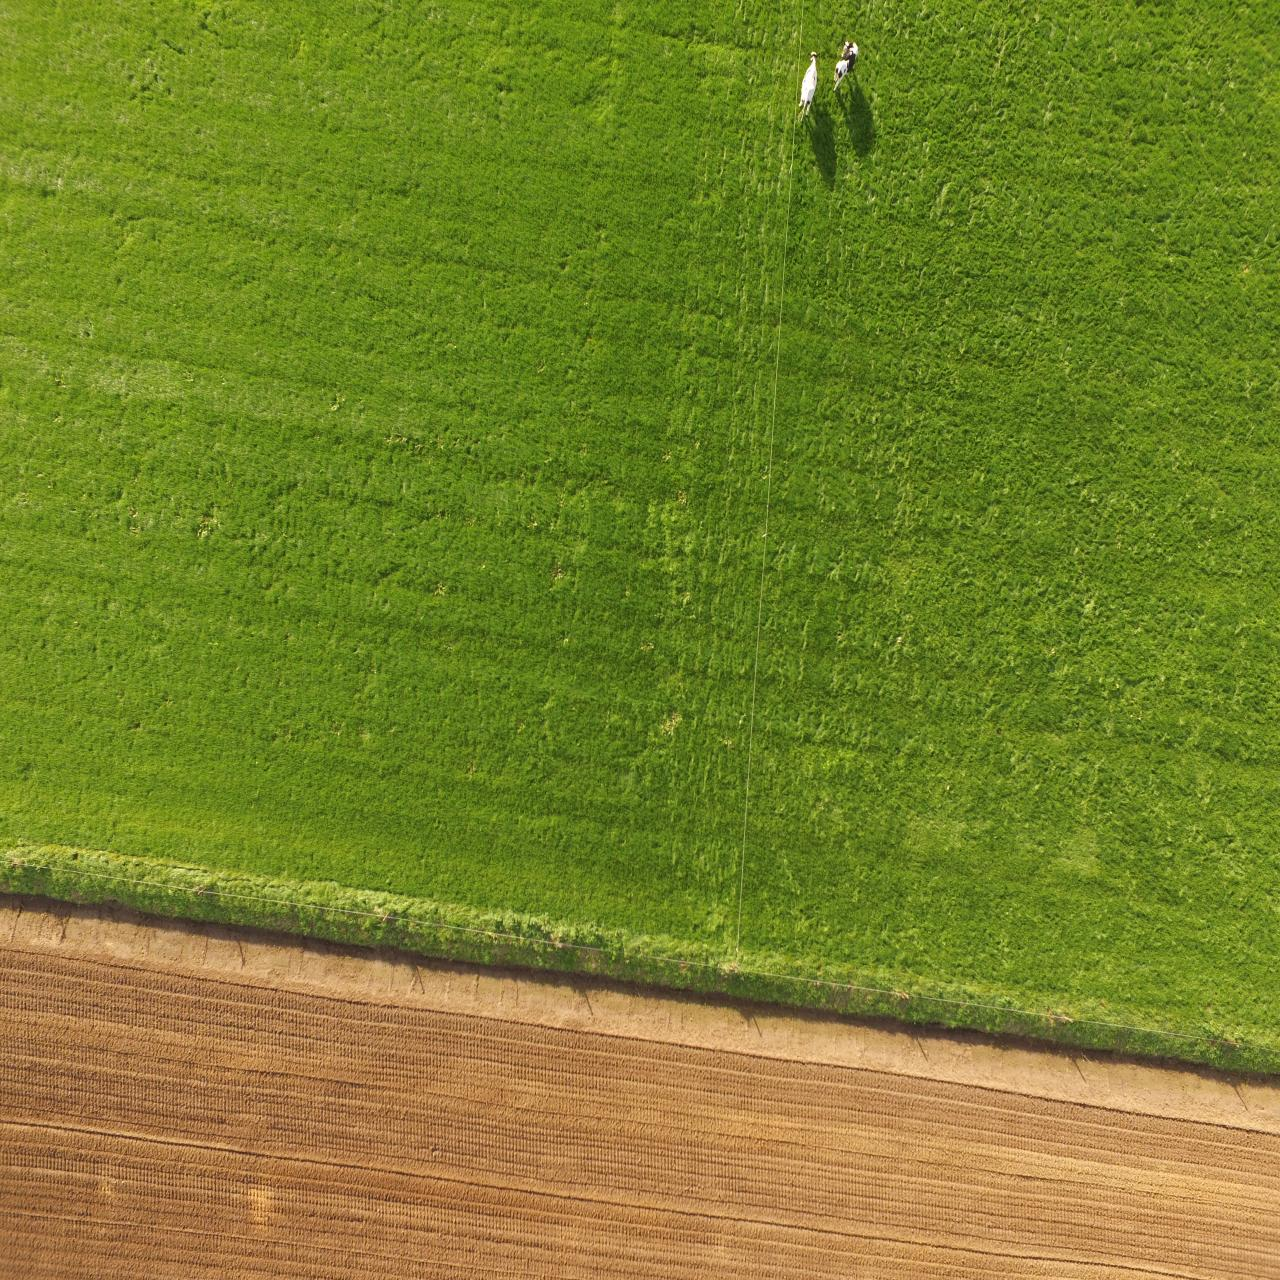cow: (795, 48, 818, 121), (830, 38, 860, 91)
